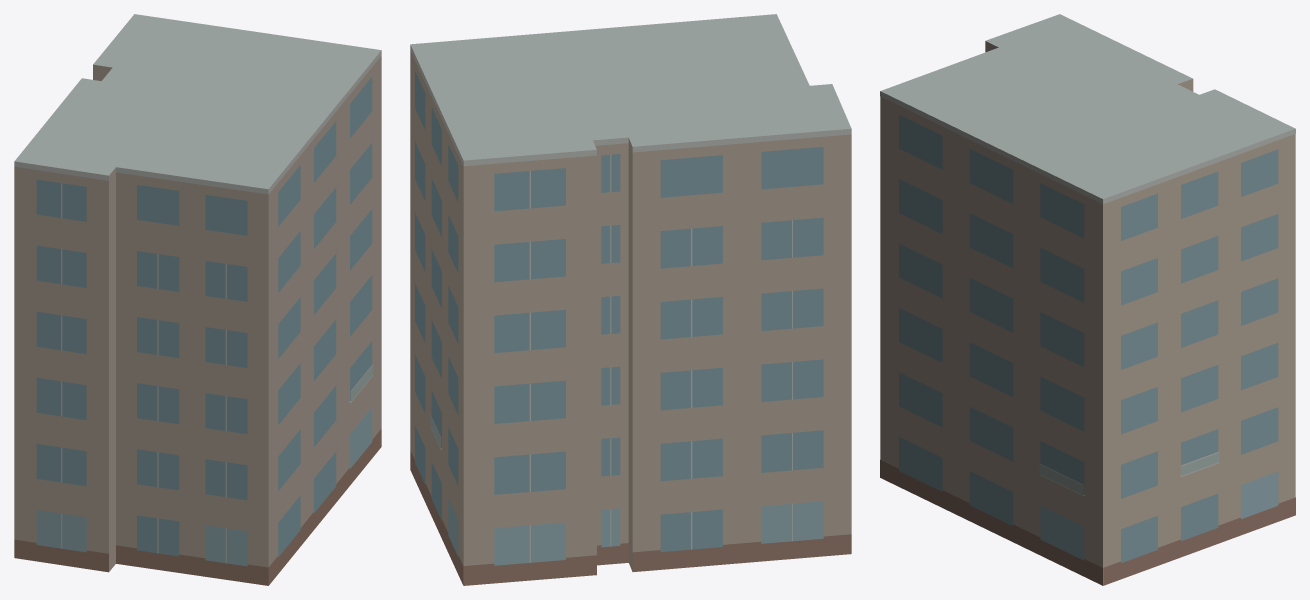
File: survey-upis-32994150.glb
The picture shows the model from 3 angles, left to right: view 1: azimuth 30°, elevation 25°; view 2: azimuth 150°, elevation 25°; view 3: azimuth 270°, elevation 25°; orthographic projection. The views are drawn at different scales.
Visible parts, largest first — view 1: survey-upis-32994150.tmp; view 2: survey-upis-32994150.tmp; view 3: survey-upis-32994150.tmp.
Boxes of the visible parts, x1=… form: survey-upis-32994150.tmp: x1=14, y1=14, x2=381, y2=585; survey-upis-32994150.tmp: x1=410, y1=14, x2=851, y2=585; survey-upis-32994150.tmp: x1=880, y1=14, x2=1295, y2=585.
Bounding box in the file's own units: 18.81 × 18.3 × 17.83.
